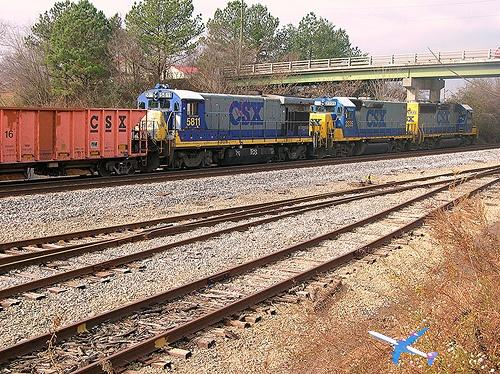tampered: (369, 328, 438, 366)
